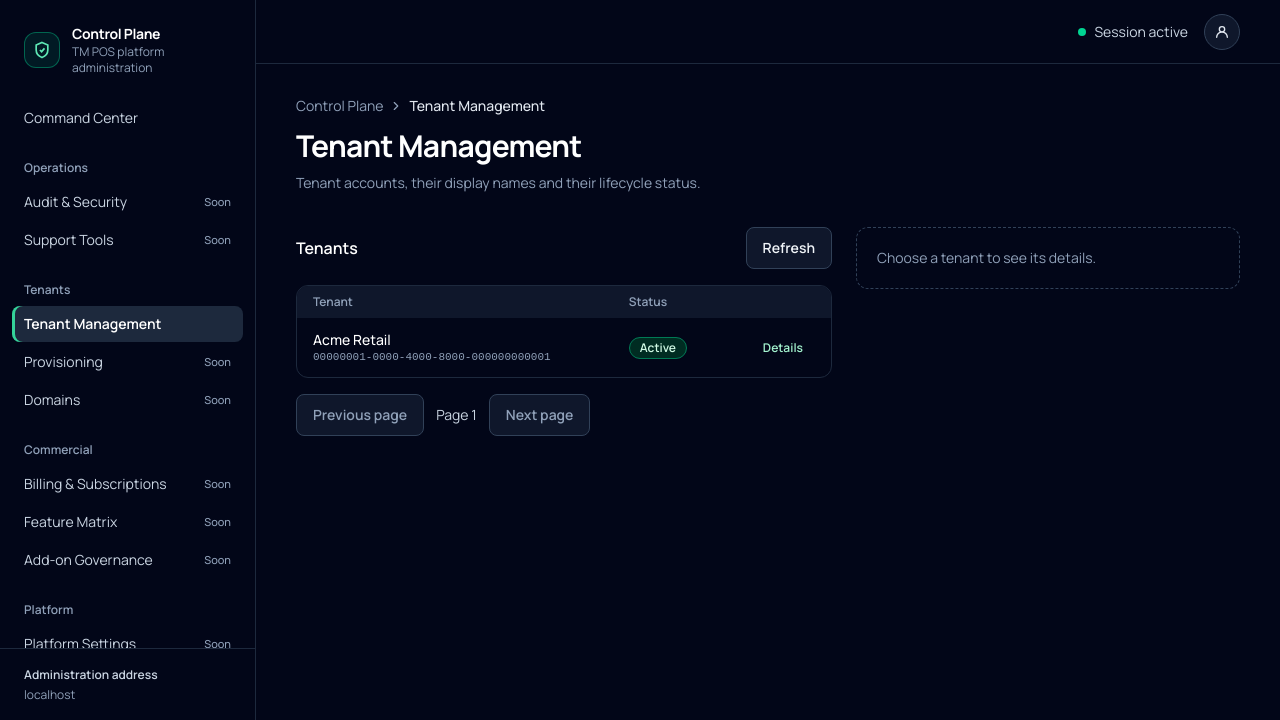
Test: Tenant Management: the display name › sends exactly the trimmed name and the server version, shows the confirmed value, then reads the list again
Click the button with aria-label "Open details for Acme Retail".
click(783, 348)  # box [751, 334, 815, 362]
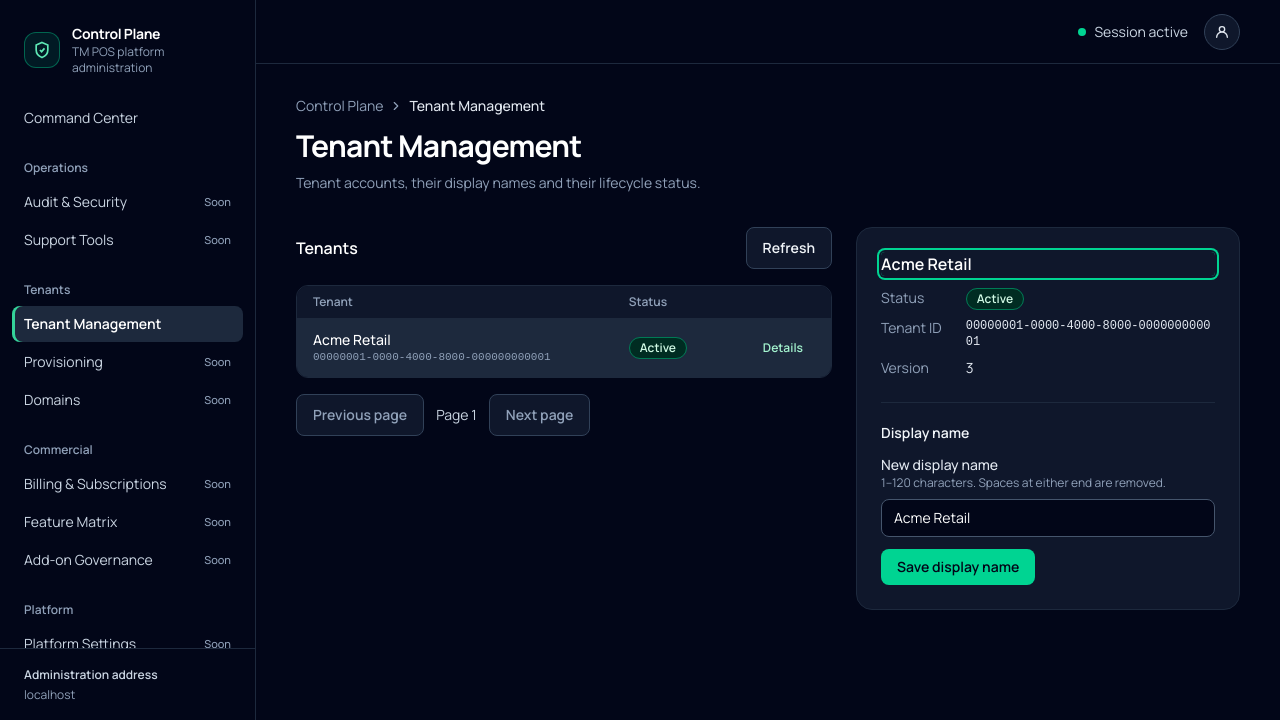
Replace the text in the field labelled "New display name" with "  Acme Retail Group  " at (1048, 518), box [881, 499, 1215, 537]
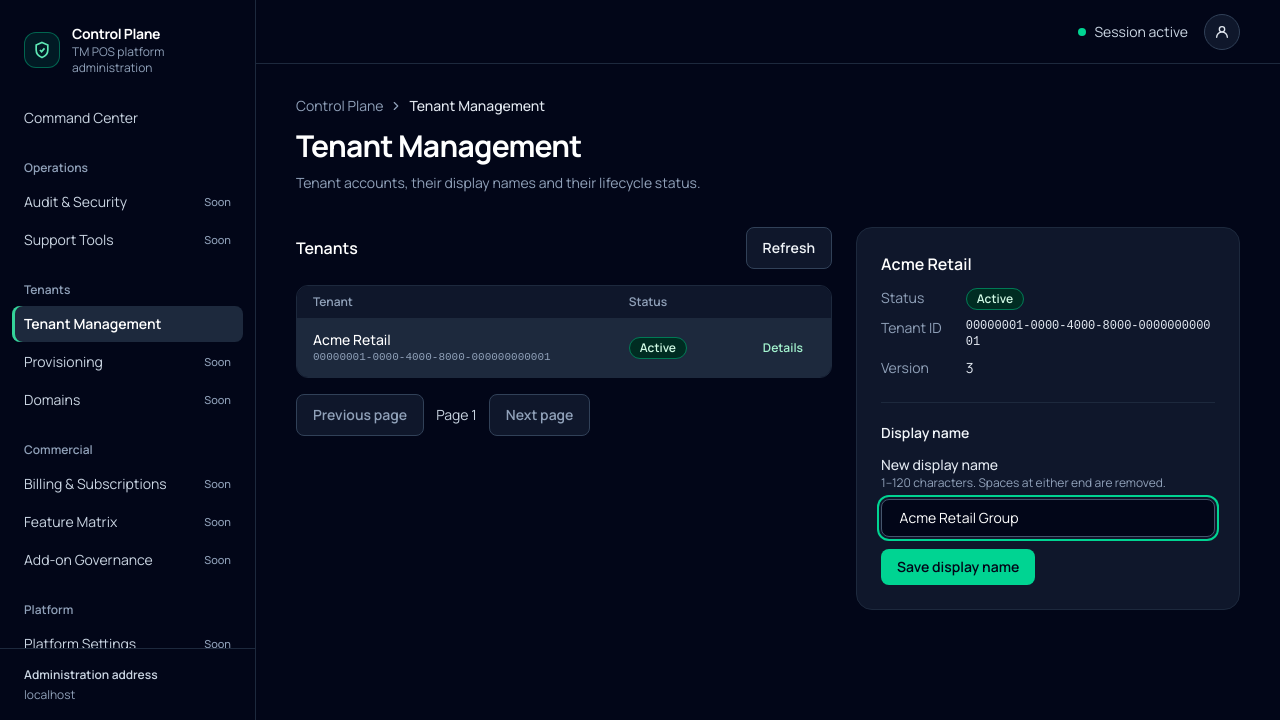
Click the button "Save display name".
click(958, 567)  # box [881, 549, 1035, 585]
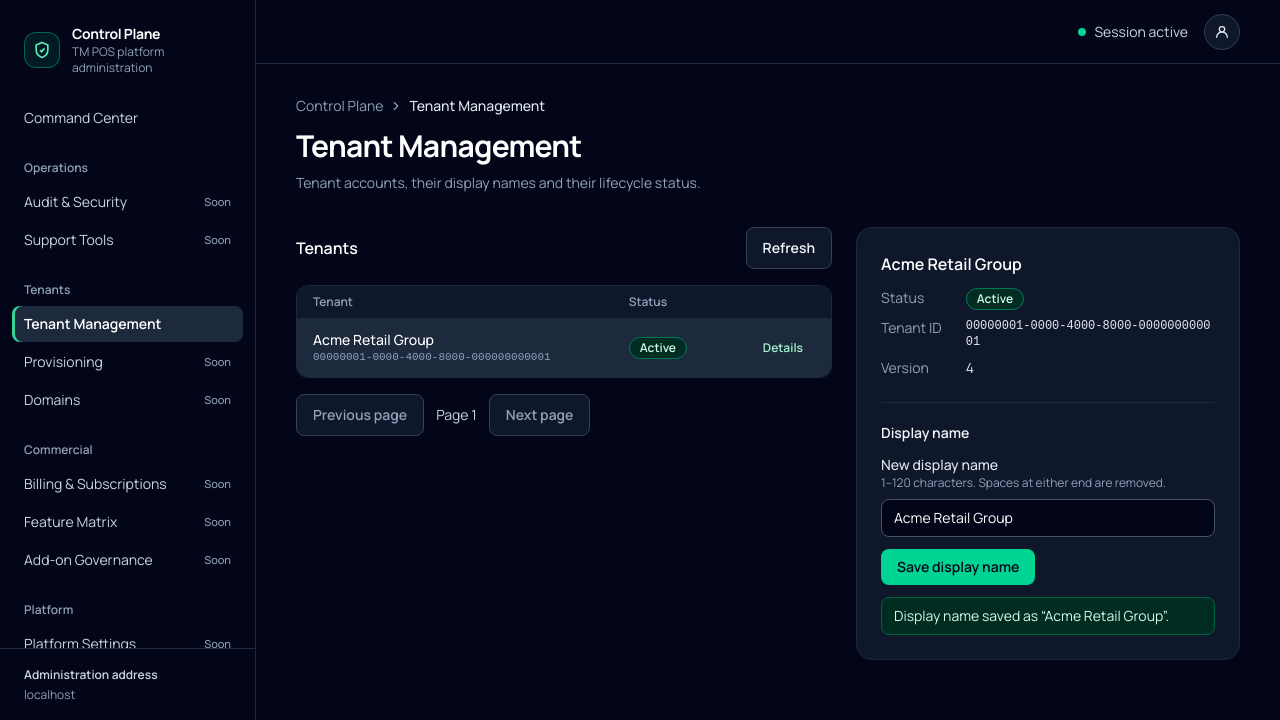
Now the message reads "Display name saved as “Acme Retail Group”.", box [894, 606, 1169, 625]
Now the row that starts with "Acme Retail Group" is shown, box [313, 330, 434, 349]
